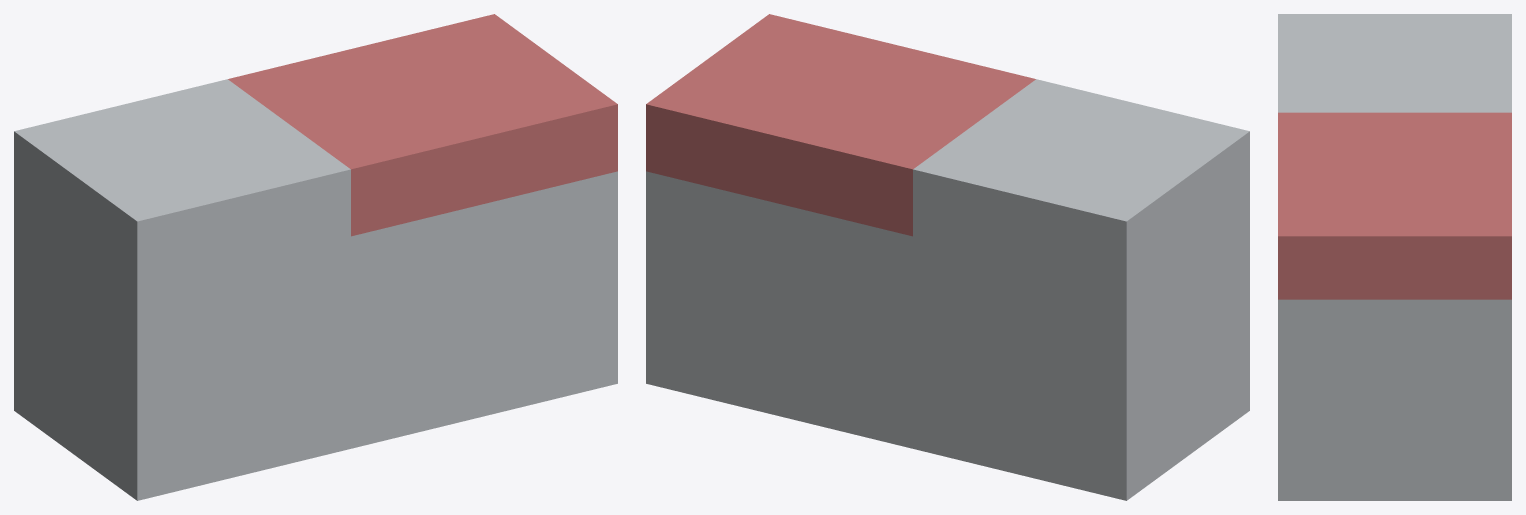
The model's file is step_02.glb.
3 renders of one model, left to right at view 1: azimuth 30°, elevation 25°; view 2: azimuth 150°, elevation 25°; view 3: azimuth 270°, elevation 25°, orthographic. The views are drawn at different scales.
Visible parts, largest first — view 1: part__projection line block, removed__projection line block; view 2: part__projection line block, removed__projection line block; view 3: part__projection line block, removed__projection line block.
Boxes of the visible parts, x1,y1,x2,y2 form: part__projection line block: [14, 79, 617, 500]; removed__projection line block: [228, 14, 617, 236]; part__projection line block: [646, 79, 1249, 500]; removed__projection line block: [646, 14, 1035, 236]; part__projection line block: [1278, 14, 1511, 500]; removed__projection line block: [1278, 112, 1511, 299].
Bounding box in the file's own units: 45 × 25 × 20.
